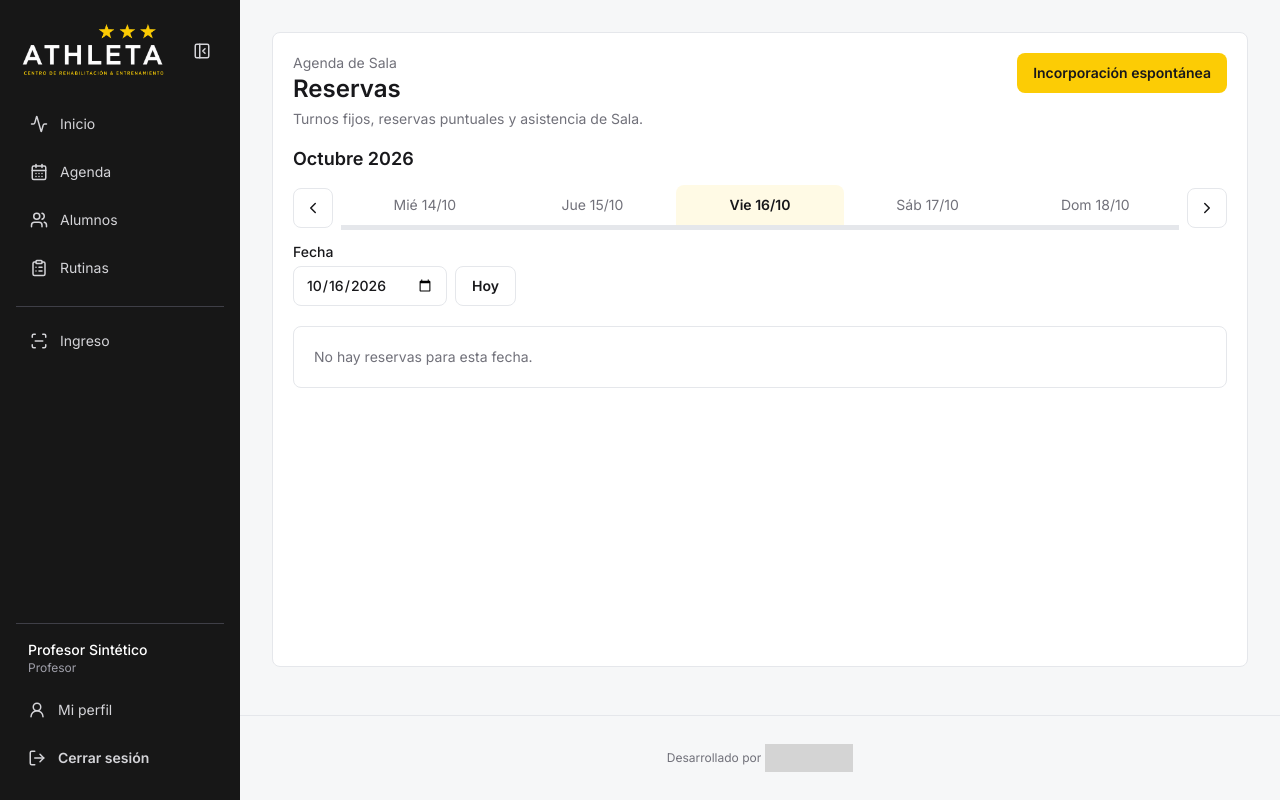
Test: reuses spontaneous incorporation for an existing person and refreshes operational queries after saving
Expected: the heading "Reservas" is shown, [293, 74, 401, 103]
Click the button "Incorporación espontánea" at (1122, 73), box [1017, 53, 1227, 93]
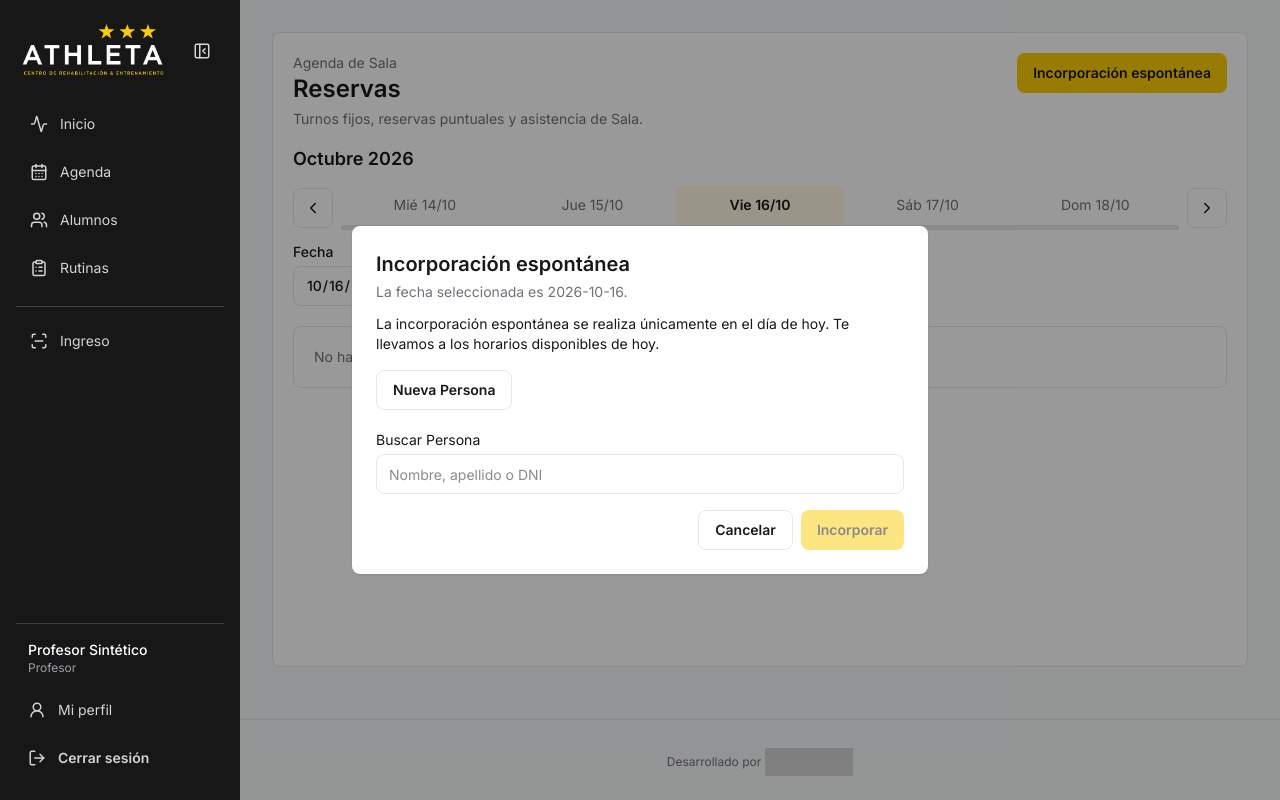
Now the dialog "Incorporación espontánea" is shown, box [352, 226, 928, 574]
Now the button "Nueva Persona" is shown, box [376, 370, 512, 410]
Type "Simpson" into the field labelled "Buscar Persona" at (640, 474), box [376, 454, 904, 494]
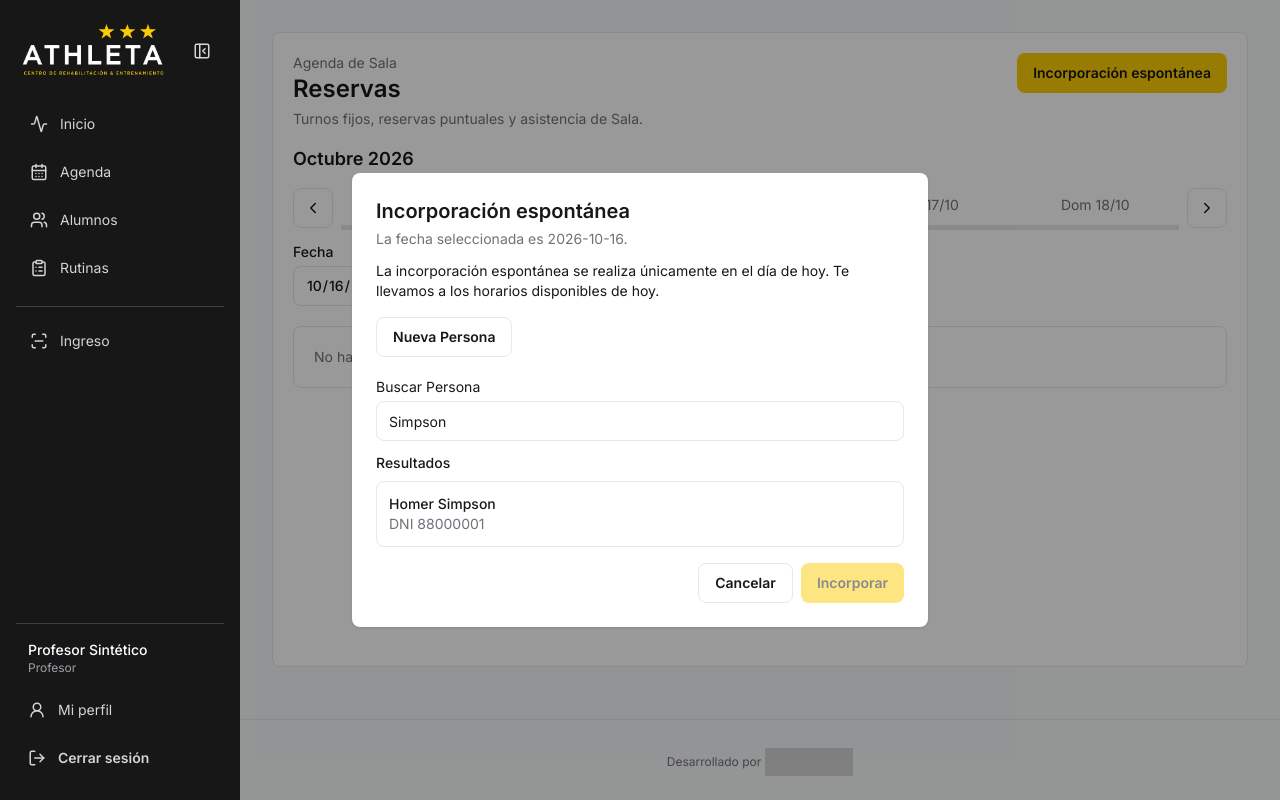
Click the button with aria-label "Homer Simpson · DNI 88000001" at (411, 504), box [376, 481, 904, 547]
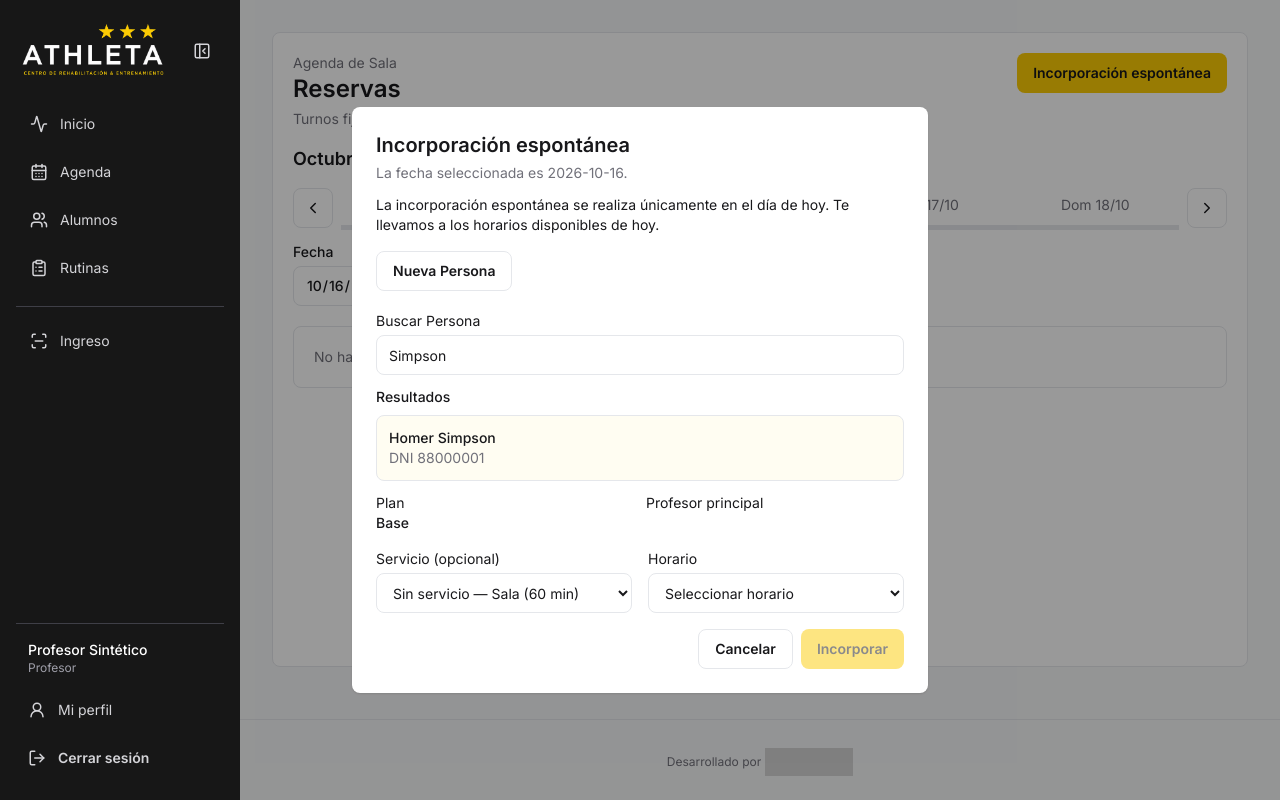
Select "Musculación · 15 min" in the dropdown labelled "Servicio" at (504, 593), box [376, 573, 632, 613]
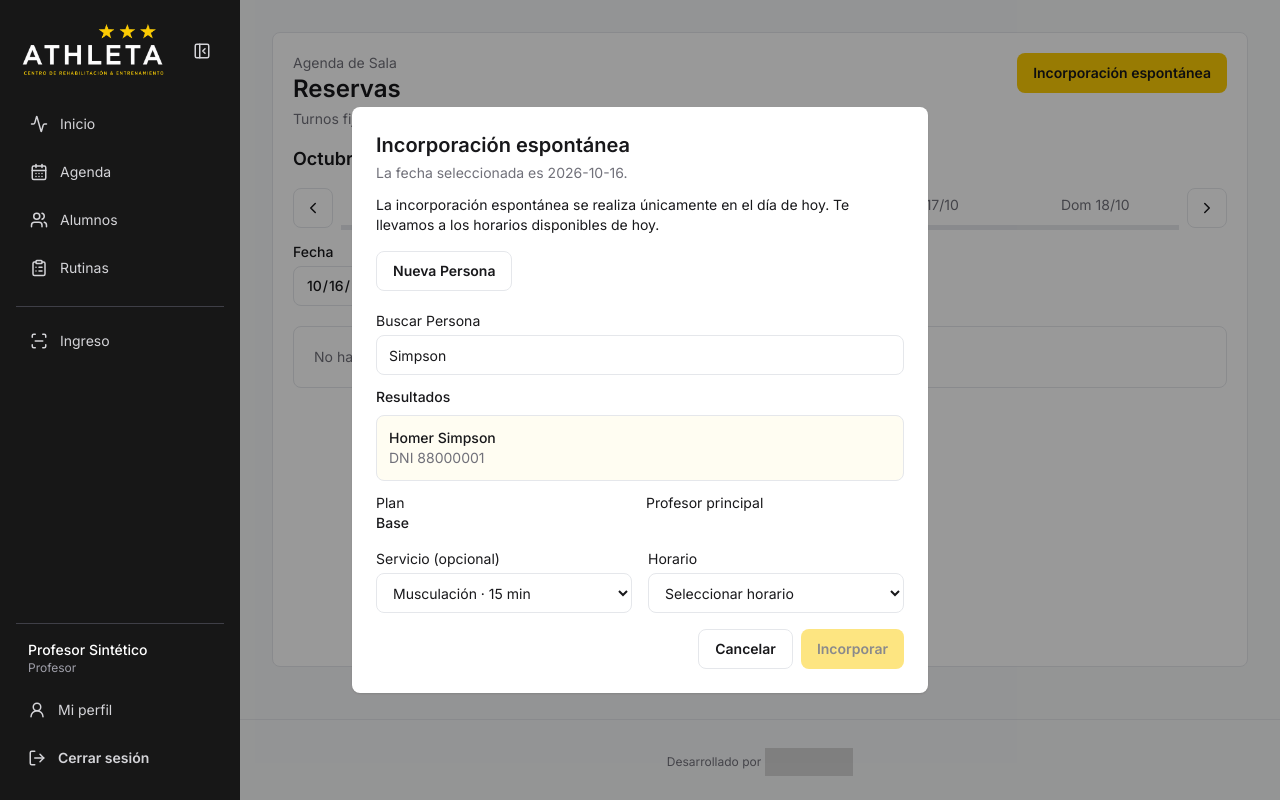
Select "09:00" in the dropdown named "Horario espontáneo" at (776, 593), box [648, 573, 904, 613]
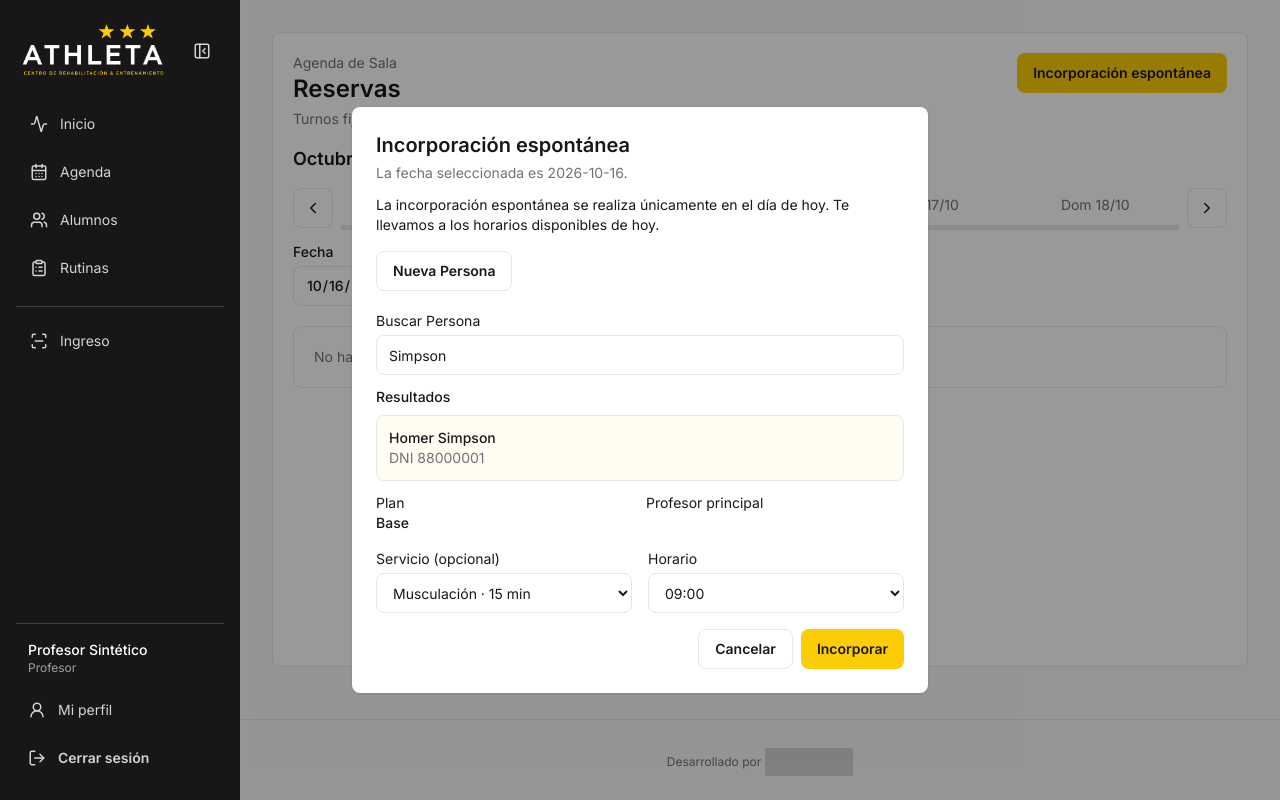
Click the button "Incorporar" at (852, 649), box [801, 629, 904, 669]
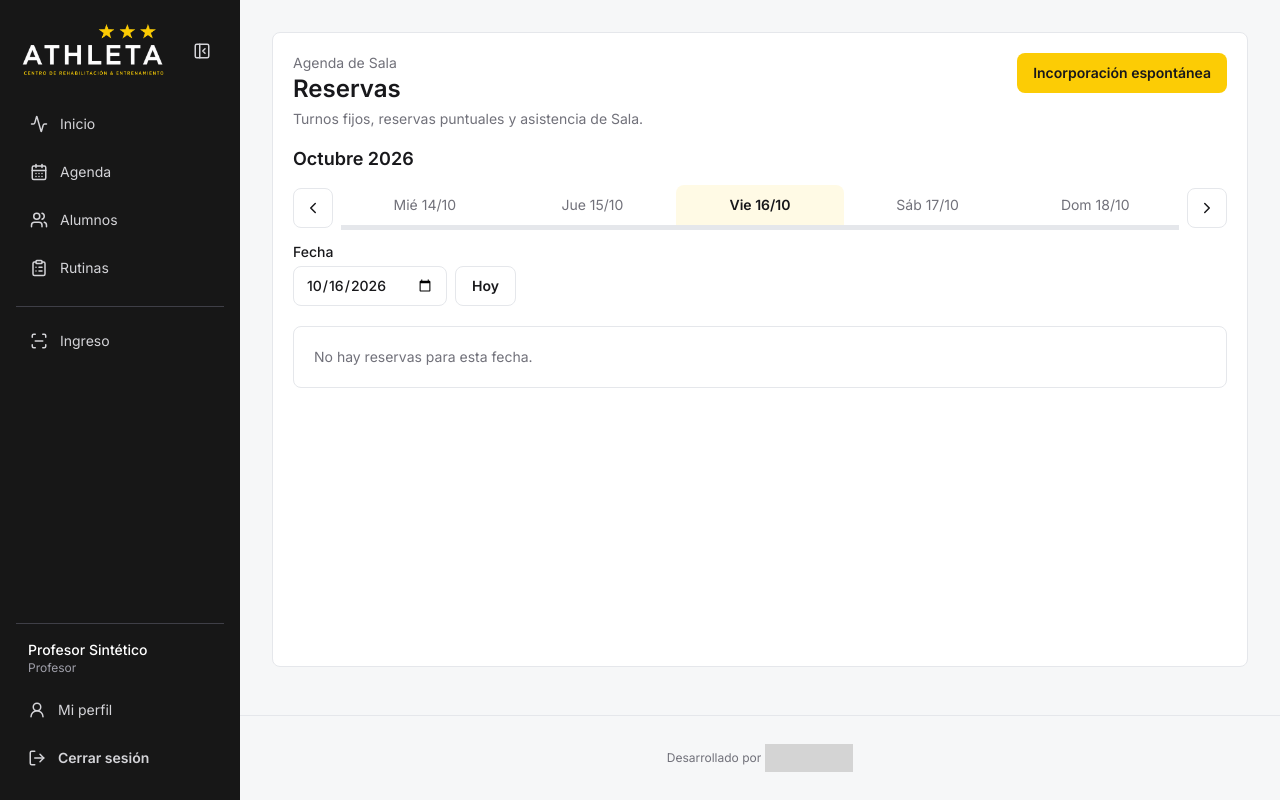
Now the dialog is gone
